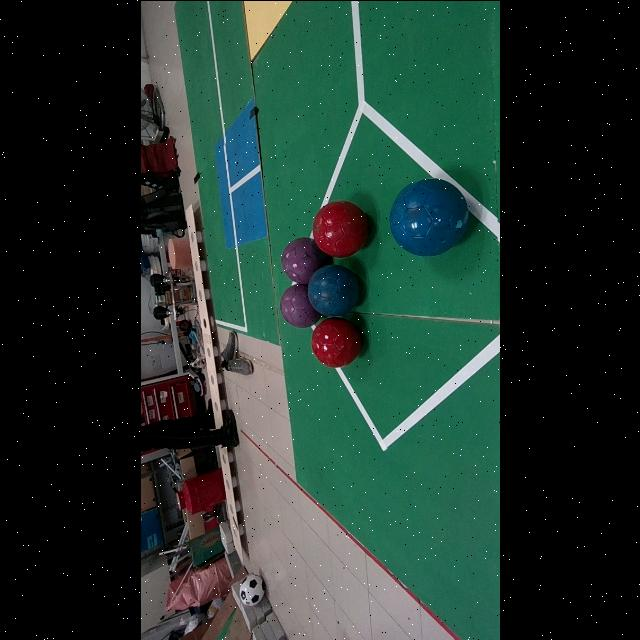B: (390, 177, 469, 256), (307, 263, 359, 315)
P: (281, 237, 327, 283), (281, 283, 321, 327)
R: (311, 200, 368, 257), (310, 317, 360, 367)
